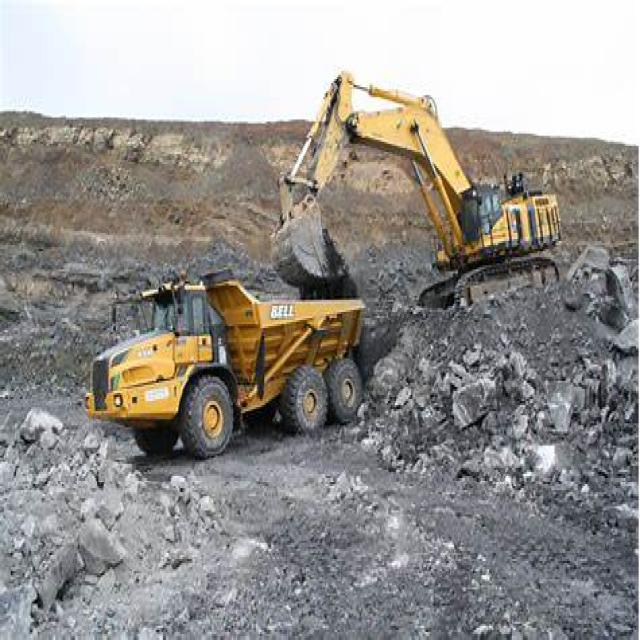dump_truck: (70, 265, 377, 476)
excavator: (276, 28, 582, 371)
